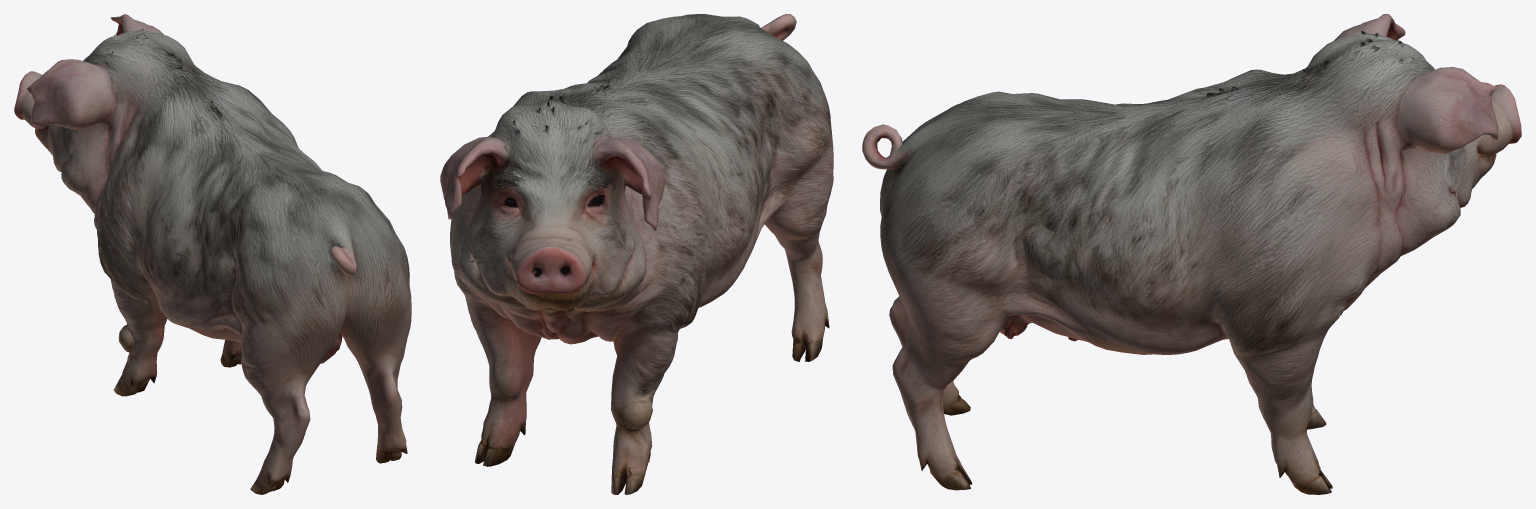
File: maiale_macchiato.gltf
The picture shows the model from 3 angles, left to right: view 1: azimuth 30°, elevation 25°; view 2: azimuth 150°, elevation 25°; view 3: azimuth 270°, elevation 25°; orthographic projection. The views are drawn at different scales.
Visible parts, largest first — view 1: animal; view 2: animal; view 3: animal.
Part boxes in pixels (x1,y1,x2,y2): animal: (14, 14, 411, 494); animal: (440, 14, 833, 494); animal: (862, 14, 1521, 494).
Size of the model in its own units: 0.6214 by 0.9205 by 1.35.
1 material, 1 textured.
